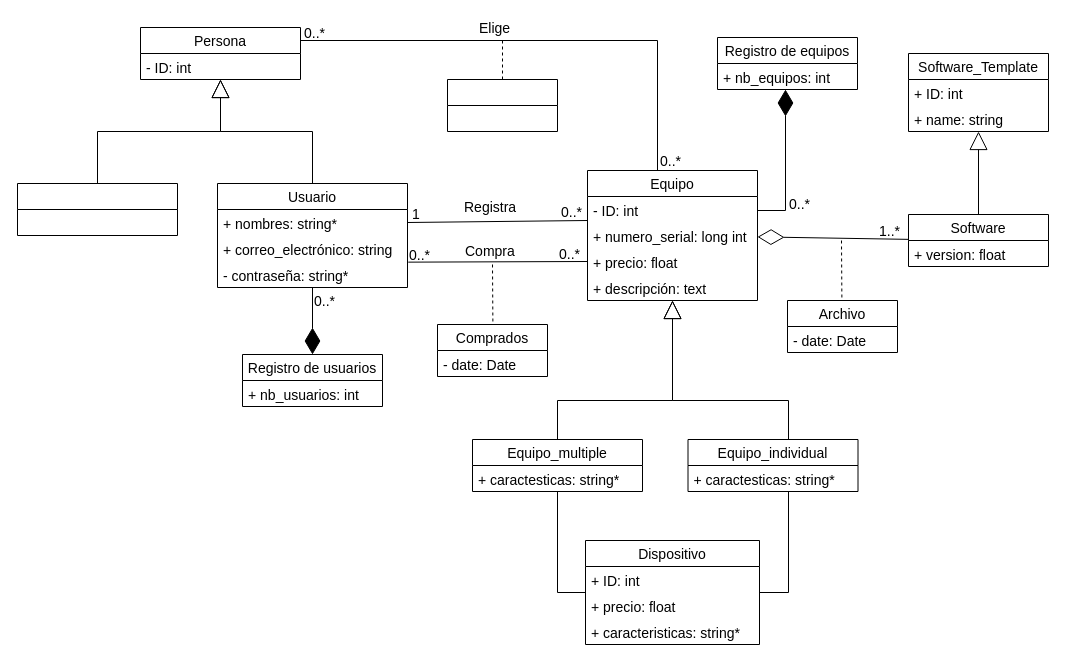
The diagram is 1066 pixels wide and 664 high, and some of its shapes have lost their labels. Here are the shapes that lost their labels. From the top down, the centre of each, then its label:
point 502,105: Carrito
point 97,209: Visitante
